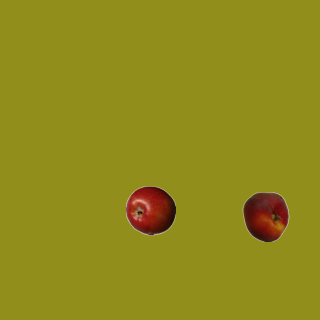Apple Braeburn: (125, 185, 175, 235)
Nectarine Flat: (240, 191, 290, 241)
